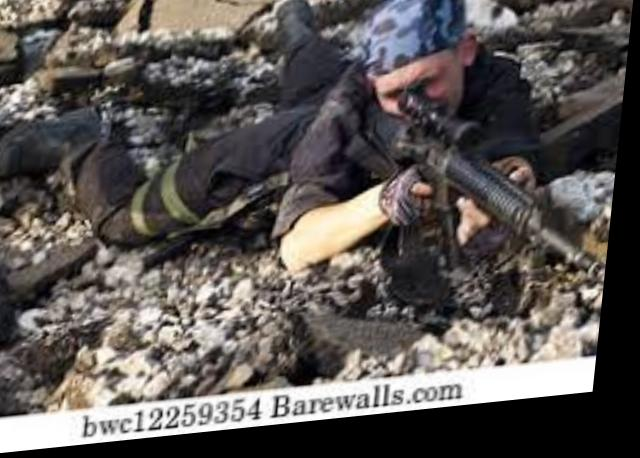other: (10, 15, 497, 260)
